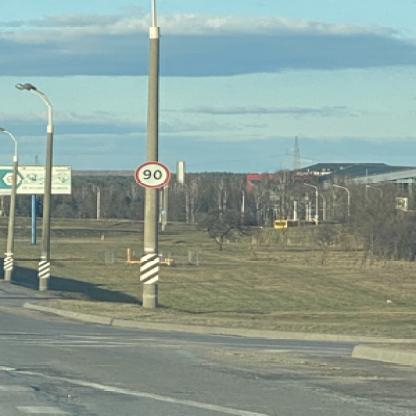Speed Limit 90: (134, 160, 170, 188)
